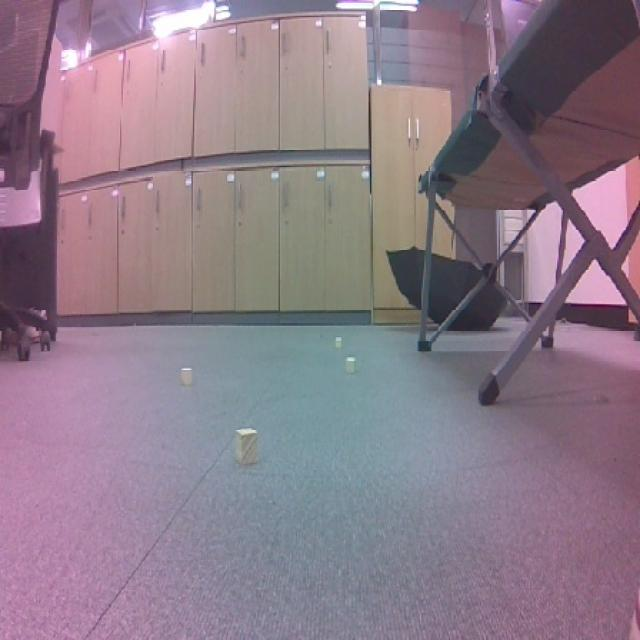obstacle: (227, 422, 266, 472), (175, 363, 201, 388)
